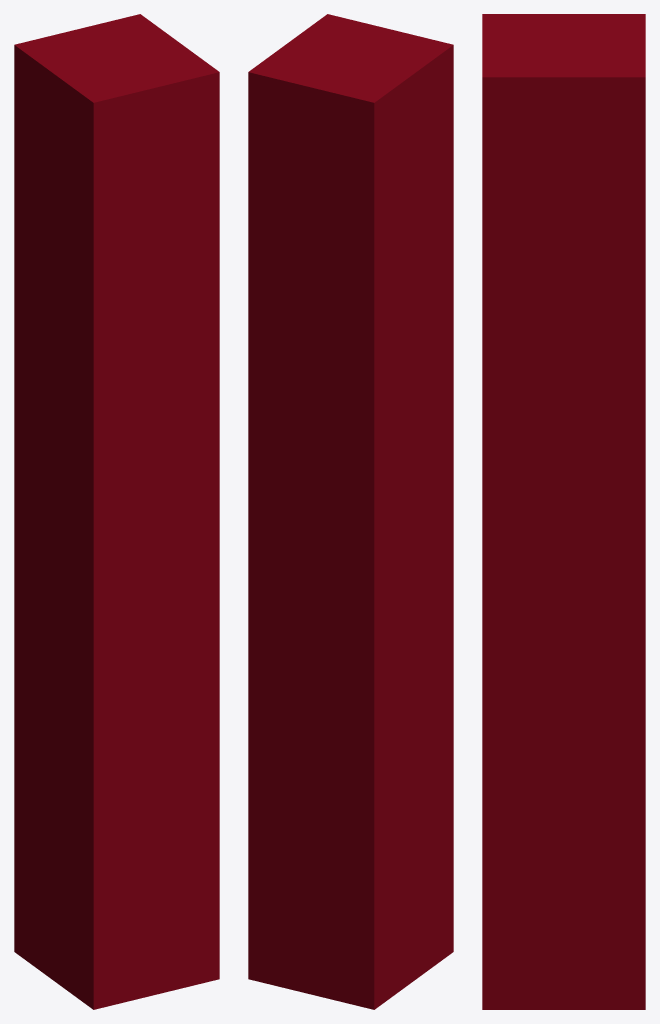
Rendered from hole_wall.fbx.
3 renders of one model, left to right at view 1: azimuth 30°, elevation 25°; view 2: azimuth 150°, elevation 25°; view 3: azimuth 270°, elevation 25°, orthographic. The views are drawn at different scales.
Visible parts, largest first — view 1: default; view 2: default; view 3: default.
Boxes of the visible parts, x1,y1,x2,y2 form: default: (14,14,219,1009); default: (248,14,453,1009); default: (482,14,645,1009).
Bounding box in the file's own units: 263 × 1807 × 287.
